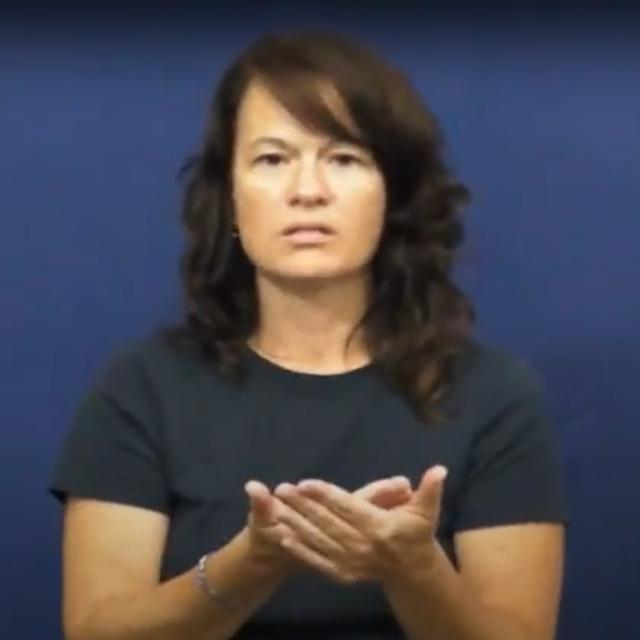good: (245, 465, 447, 585)
